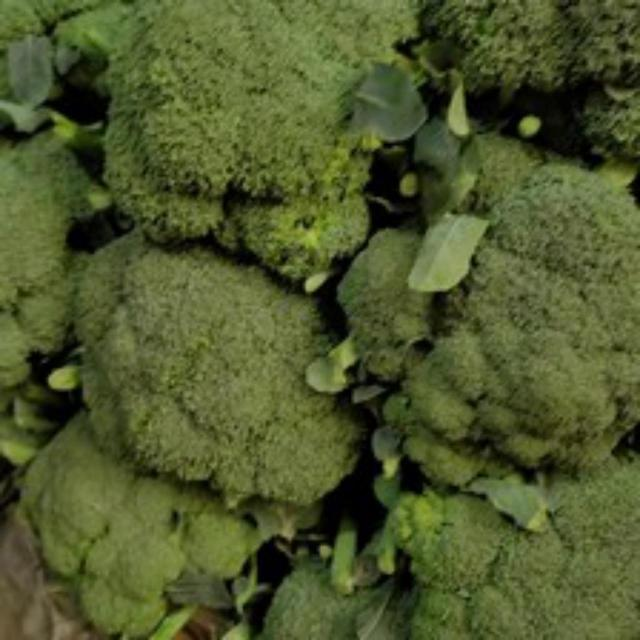broccoli: (72, 195, 371, 533)
